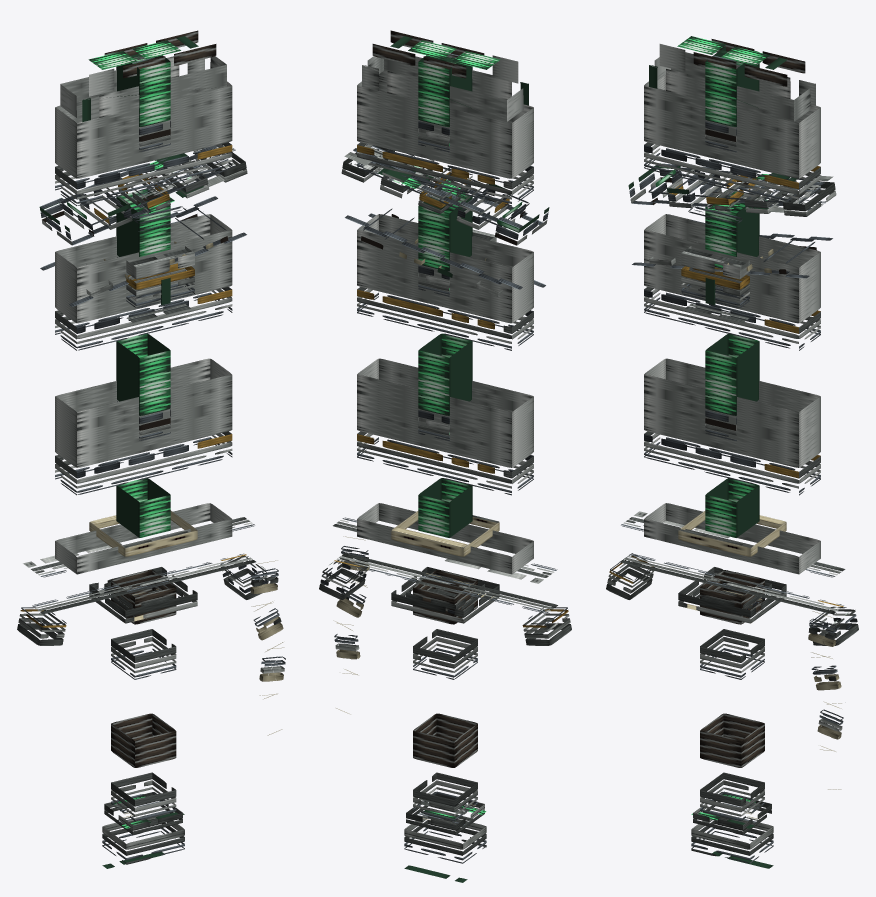
Rendered from gravewardens_oath.obj.
The picture shows the model from 3 angles, left to right: view 1: azimuth 30°, elevation 25°; view 2: azimuth 150°, elevation 25°; view 3: azimuth 330°, elevation 25°; orthographic projection.
Visible parts, largest first — view 1: lit, fire; view 2: lit, fire; view 3: lit, fire.
Part boxes in pixels (x1,y1,x2,y2): lit: (17, 30, 285, 868); fire: (116, 54, 170, 537); lit: (319, 30, 571, 882); fire: (418, 53, 472, 537); lit: (606, 36, 858, 868); fire: (705, 46, 759, 537).
Bounding box in the file's own units: 0.8901 × 2.9 × 0.2544.
